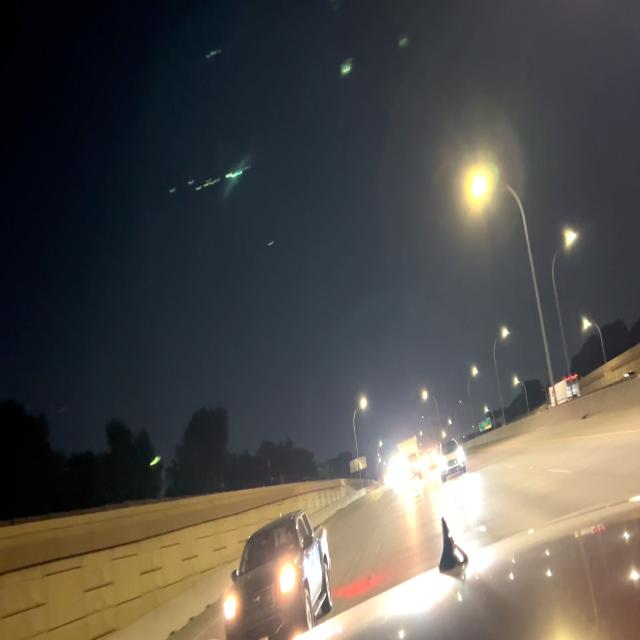back-of-sign: (349, 454, 367, 479)
